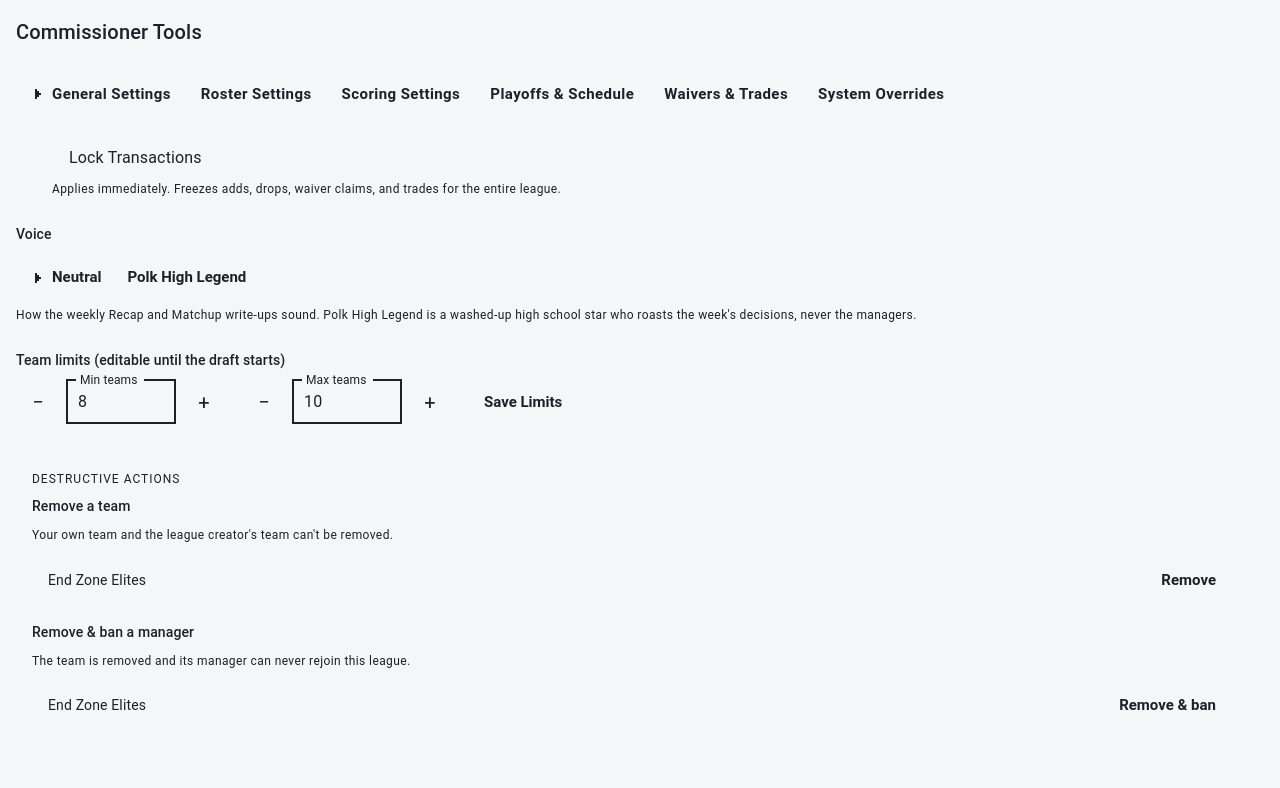
Test: Lock Specific Team identifies each team by its Team name
The width and height of the screenshot is (1280, 788).
Click the tab "System Overrides": coordinates (881, 94) [802,72,960,116]
(page scrolled)
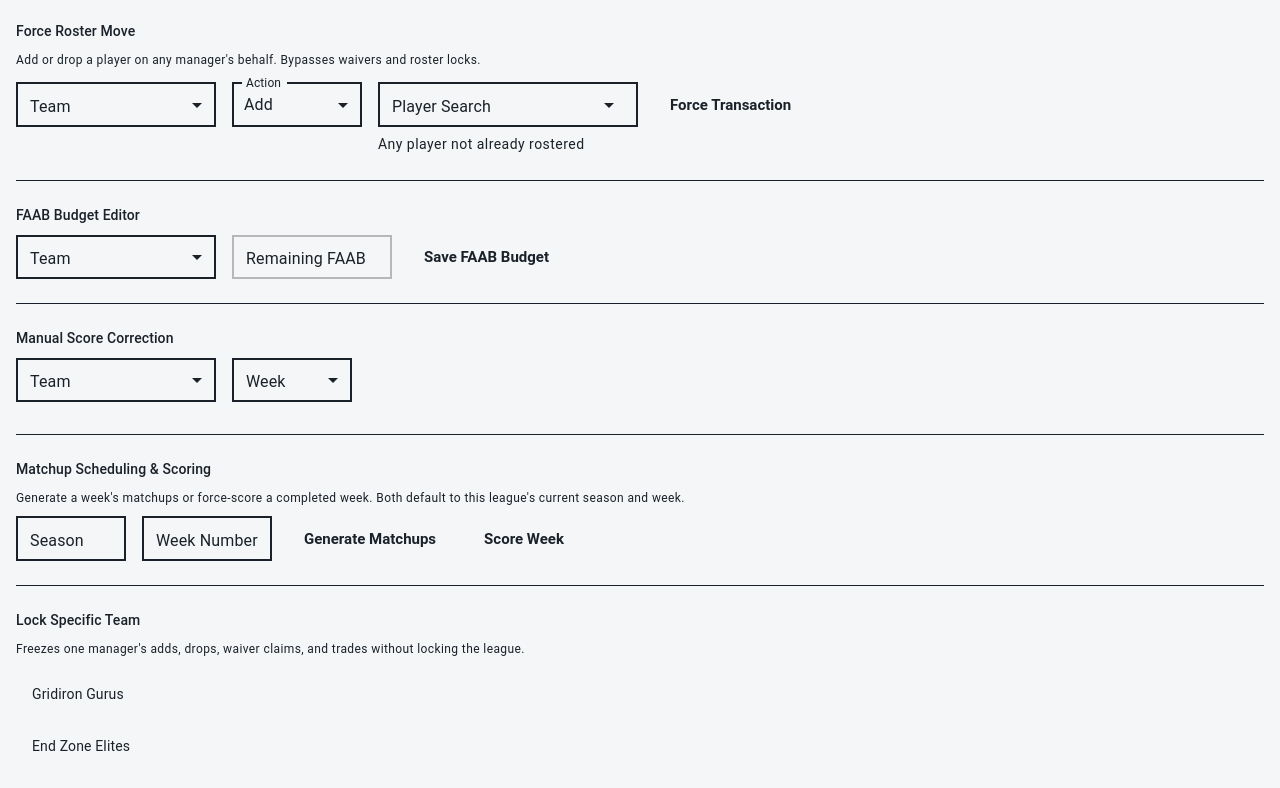
Expected: the text "End Zone Elites" is shown, [32,738,130,754]
Result: the text "Gridiron Gurus" is shown at [32,686,124,702]
